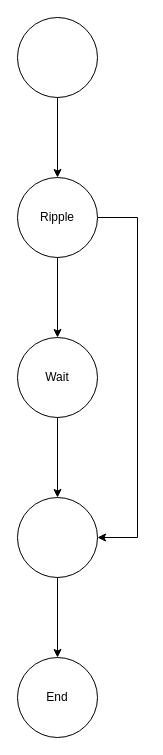
The diagram is 163 pixels wide and 755 high, and some of its shapes have lost their labels. The shapes that lost their labels are listed below. From the top down, each one's box as (x1, y1, x2, y2) in pixels, then its label:
(16, 16, 98, 98): Start
(16, 496, 98, 578): Fade out
